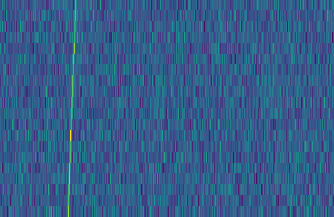signal: (60, 0, 77, 217)
